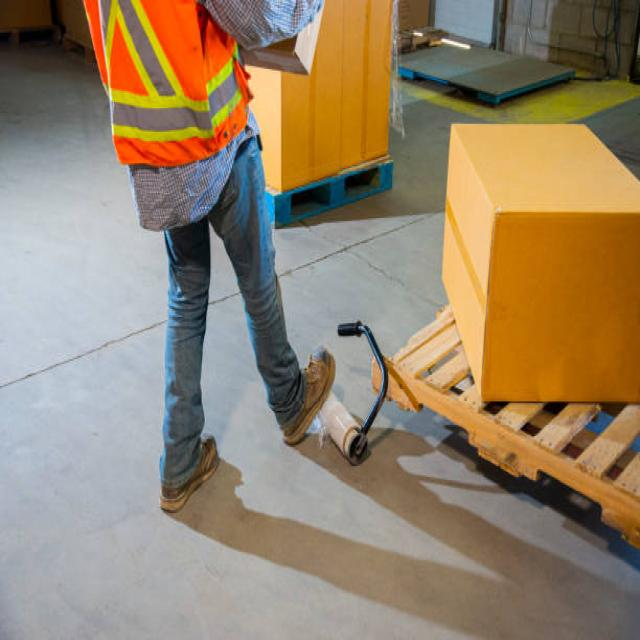Wooden-Pallets: (367, 302, 640, 553)
